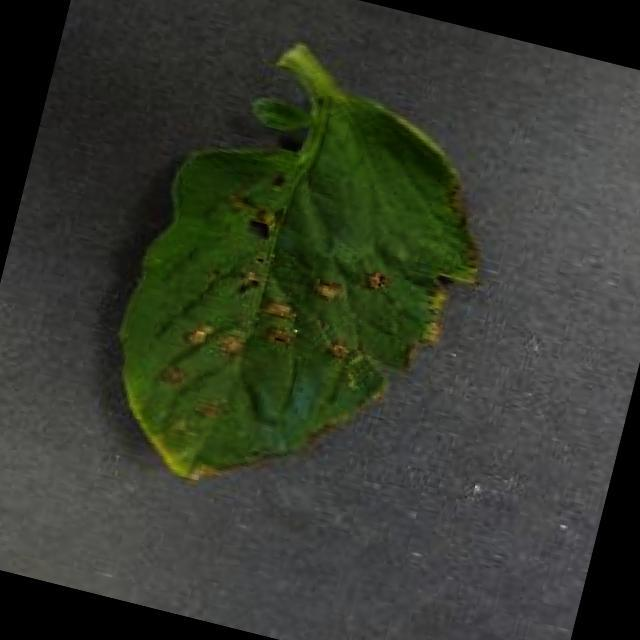Tomato bacterial spot leaf: (73, 2, 540, 560)
